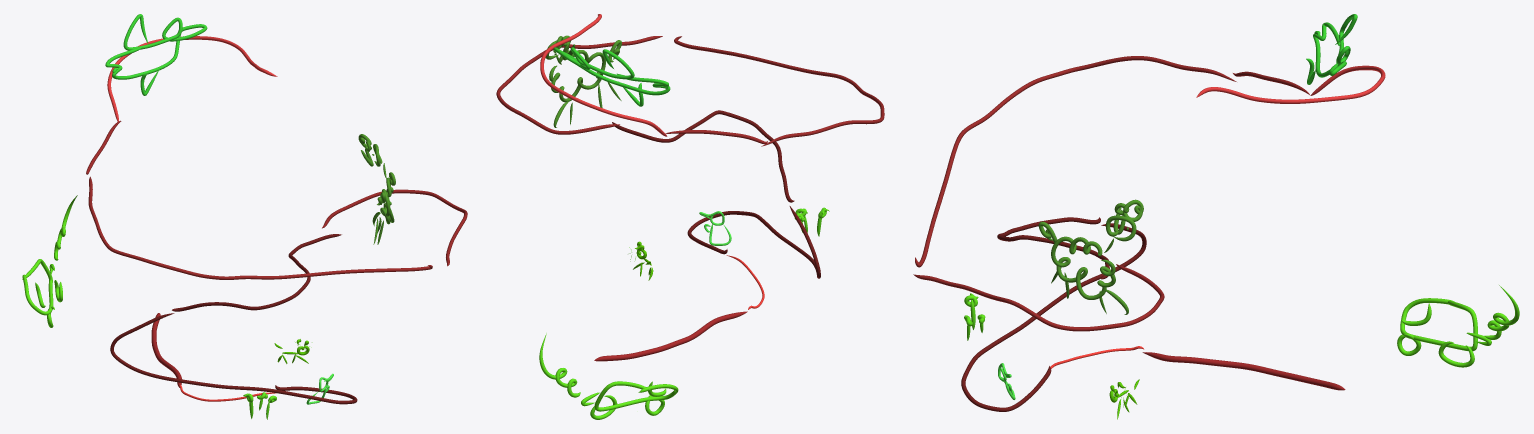
3 renders of one model, left to right at view 1: azimuth 30°, elevation 25°; view 2: azimuth 150°, elevation 25°; view 3: azimuth 270°, elevation 25°, orthographic. The views are drawn at different scales.
Visible parts, largest first — view 1: s.0088, s.0071, s.0090, s.0074, s.0086, s.0094, s.0051, s.0075, s.0022; view 2: s.0088, s.0090, s.0086, s.0071, s.0074, s.0094, s.0022, s.0051, s.0075, s.0056, s.0089; view 3: s.0088, s.0071, s.0086, s.0075, s.0094, s.0022, s.0090, s.0051, s.0074, s.0056.
Part boxes in pixels (left/top/right/bottom): s.0088: left=88, top=176, right=432, bottom=279; s.0071: left=110, top=313, right=357, bottom=404; s.0090: left=105, top=14, right=207, bottom=79; s.0074: left=172, top=234, right=341, bottom=311; s.0086: left=322, top=189, right=467, bottom=266; s.0094: left=107, top=36, right=277, bottom=121; s.0051: left=22, top=259, right=53, bottom=315; s.0075: left=380, top=172, right=395, bottom=224; s.0022: left=151, top=313, right=181, bottom=387; s.0088: left=674, top=36, right=884, bottom=146; s.0090: left=553, top=47, right=670, bottom=95; s.0086: left=496, top=36, right=662, bottom=134; s.0071: left=687, top=206, right=820, bottom=278; s.0074: left=612, top=110, right=794, bottom=202; s.0094: left=540, top=14, right=667, bottom=136; s.0022: left=594, top=311, right=747, bottom=361; s.0051: left=594, top=381, right=678, bottom=411; s.0075: left=549, top=50, right=605, bottom=102; s.0056: left=539, top=333, right=580, bottom=397; s.0089: left=665, top=130, right=767, bottom=144; s.0088: left=915, top=56, right=1236, bottom=267; s.0071: left=961, top=223, right=1146, bottom=411; s.0086: left=913, top=264, right=1164, bottom=331; s.0075: left=1051, top=236, right=1115, bottom=299; s.0094: left=1196, top=65, right=1385, bottom=103; s.0022: left=1142, top=352, right=1345, bottom=390; s.0090: left=1313, top=14, right=1357, bottom=77; s.0051: left=1400, top=298, right=1477, bottom=351; s.0074: left=997, top=217, right=1109, bottom=279; s.0056: left=1484, top=285, right=1519, bottom=339.
Bounding box in the file's own units: 91.43 × 112 × 78.09.
